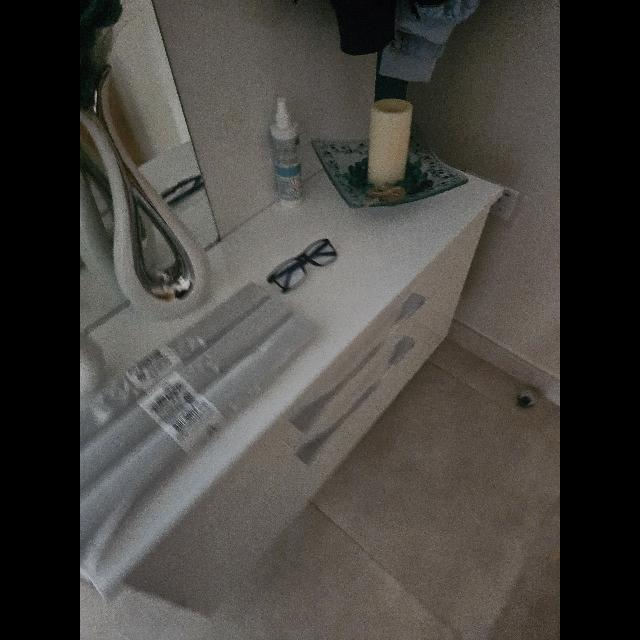glasses: (266, 238, 338, 294), (161, 175, 205, 208)
